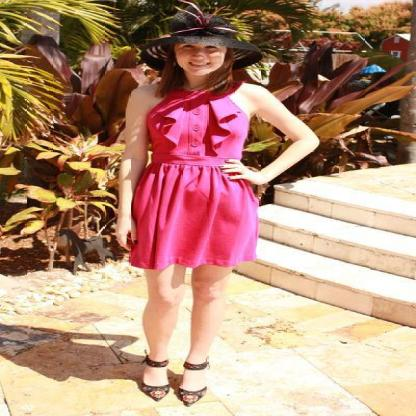dress: (126, 88, 274, 269)
hat: (147, 14, 263, 70)
shoe: (140, 358, 216, 404)
